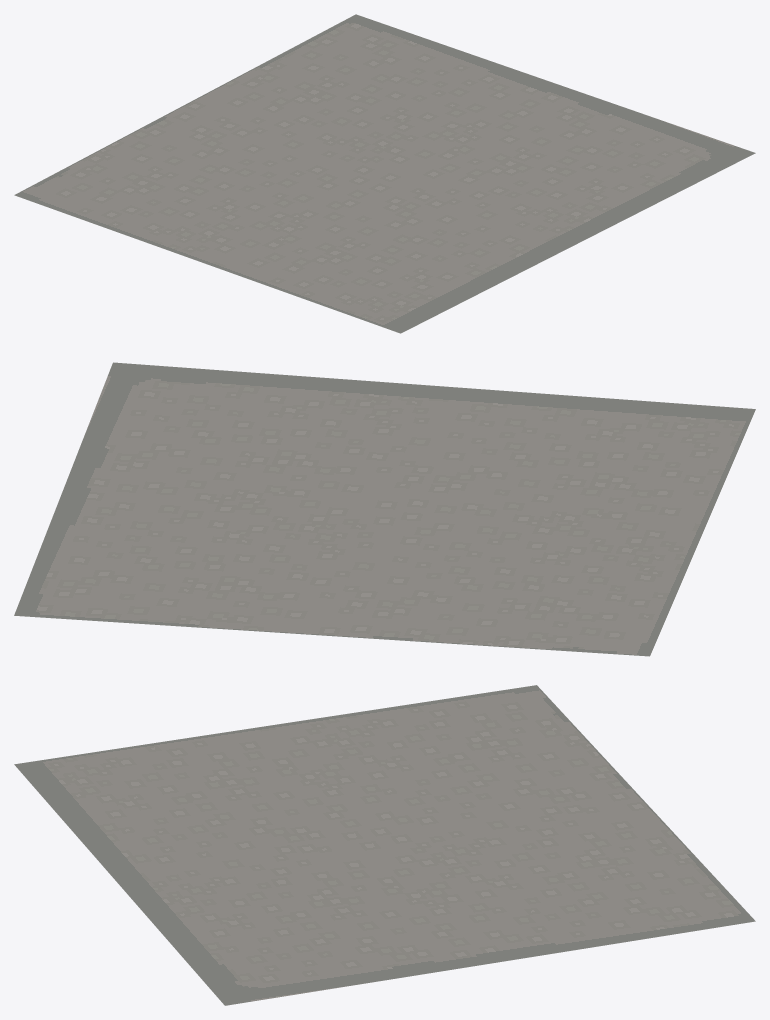
The model's file is kd_stage_135fe0_5_60_bounded.glb.
3 views of the same model, one above another, from view 1: azimuth 30°, elevation 25°; view 2: azimuth 150°, elevation 25°; view 3: azimuth 270°, elevation 25° (orthographic). The views are drawn at different scales.
Visible parts, largest first — view 1: kd_stage_135fe0_5_60_bounded; view 2: kd_stage_135fe0_5_60_bounded; view 3: kd_stage_135fe0_5_60_bounded.
Boxes of the visible parts, box(x1,y1,x2,y2) form: kd_stage_135fe0_5_60_bounded: box(14, 14, 755, 333); kd_stage_135fe0_5_60_bounded: box(14, 362, 755, 656); kd_stage_135fe0_5_60_bounded: box(14, 685, 755, 1005).
Bounding box in the file's own units: 0.9442 × 0 × 0.9229.
1 material, 1 textured.
